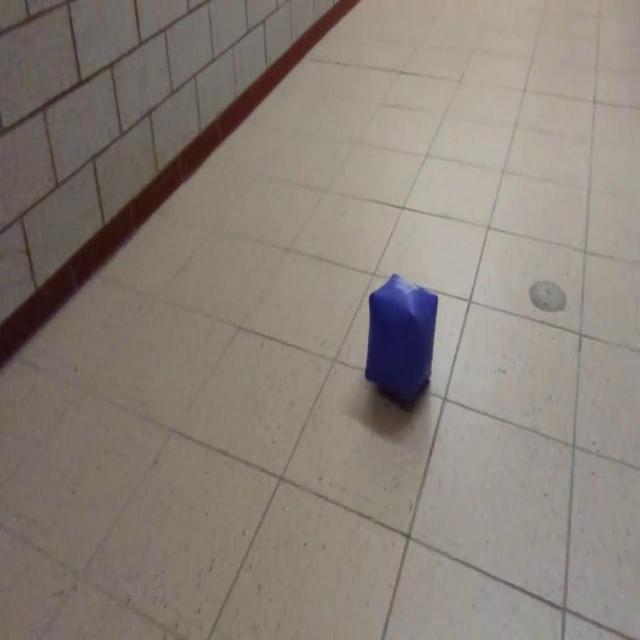frc_cube: (364, 272, 438, 409)
